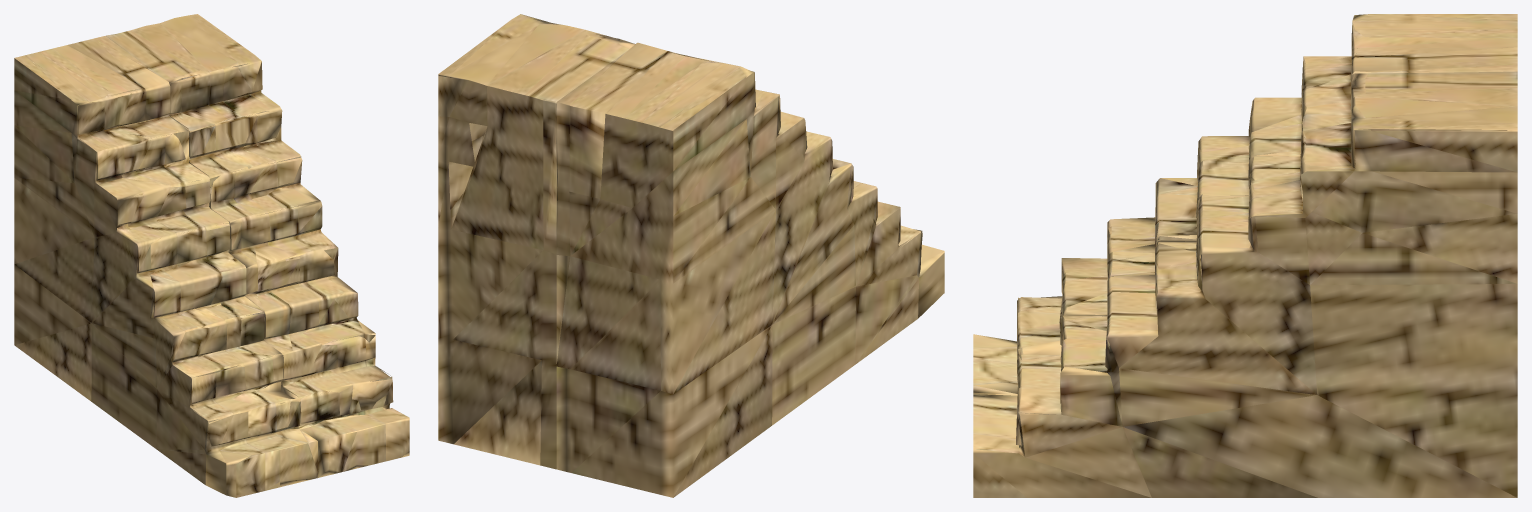
Rendered from stairs.lod1.glb.
3 renders of one model, left to right at view 1: azimuth 30°, elevation 25°; view 2: azimuth 150°, elevation 25°; view 3: azimuth 270°, elevation 25°, orthographic. The views are drawn at different scales.
Size of the model in its own units: 2 by 3 by 4.
Materials: 1 (1 with a texture image).
